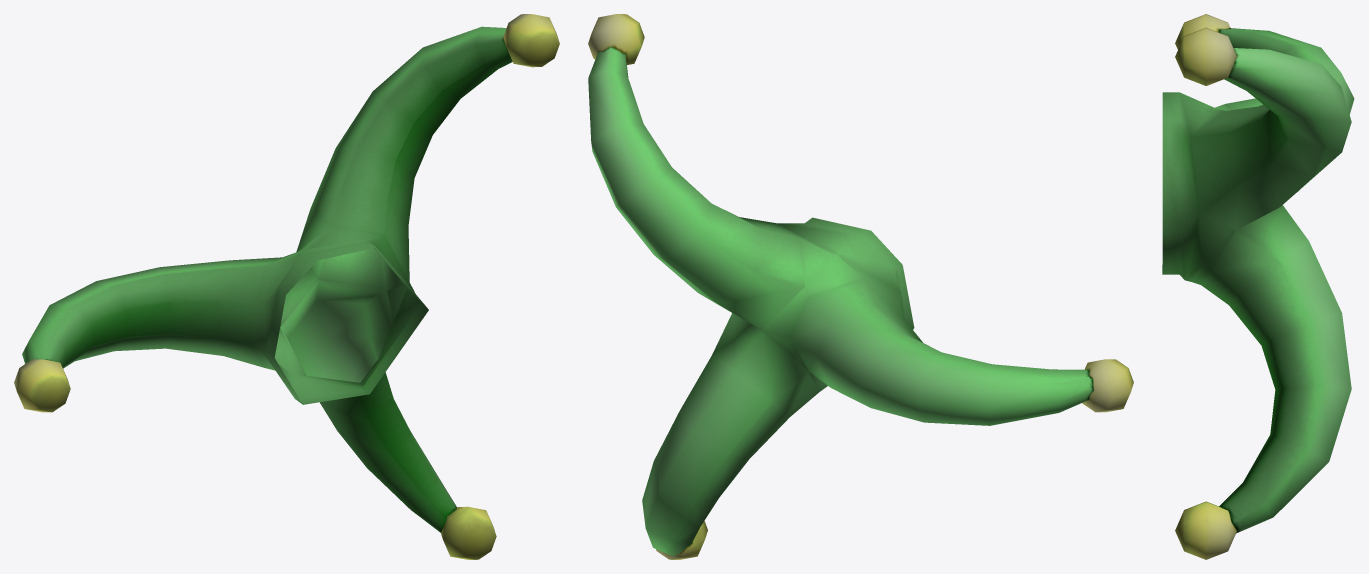
File: Jester.fbx
The picture shows the model from 3 angles, left to right: view 1: azimuth 30°, elevation 25°; view 2: azimuth 150°, elevation 25°; view 3: azimuth 270°, elevation 25°; orthographic projection. The views are drawn at different scales.
Visible parts, largest first — view 1: Hat6; view 2: Hat6; view 3: Hat6.
Part boxes in pixels (x1,y1,x2,y2): Hat6: (14, 14, 559, 559); Hat6: (588, 14, 1133, 559); Hat6: (1162, 14, 1354, 559).
Size of the model in its own units: 223 by 209 by 64.71.
